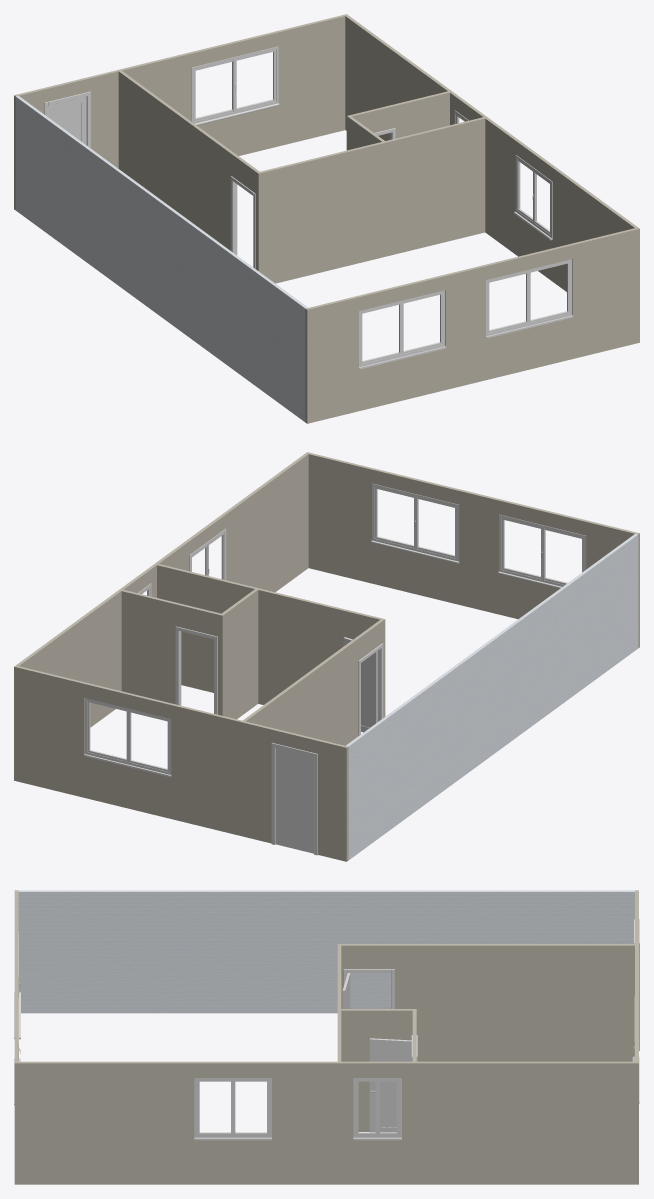
Rendered from Structure.dae.
3 renders of one model, top to bottom at view 1: azimuth 30°, elevation 25°; view 2: azimuth 150°, elevation 25°; view 3: azimuth 270°, elevation 25°, orthographic. The views are drawn at different scales.
Visible parts, largest first — view 1: Cube, 8.0.249.002, Door.001, DoorFrame; view 2: Cube, 8.0.249.002, Door.001, Door, DoorFrame.001, DoorFrame.002, DoorFrame; view 3: Cube, 8.0.249.002, Door.002.
Boxes of the visible parts, bbox=[...] form: Cube: bbox=[14, 14, 639, 423]; 8.0.249.002: bbox=[191, 46, 573, 369]; Door.001: bbox=[48, 96, 86, 144]; DoorFrame: bbox=[230, 176, 255, 268]; Cube: bbox=[14, 452, 639, 861]; 8.0.249.002: bbox=[84, 483, 586, 777]; Door.001: bbox=[275, 748, 313, 853]; Door: bbox=[343, 637, 377, 732]; DoorFrame.001: bbox=[271, 743, 317, 855]; DoorFrame.002: bbox=[175, 626, 217, 714]; DoorFrame: bbox=[358, 643, 383, 735]; Cube: bbox=[14, 890, 638, 1184]; 8.0.249.002: bbox=[14, 932, 639, 1140]; Door.002: bbox=[369, 1038, 411, 1132].
Bounding box in the file's own units: 8.41 × 12.86 × 2.76.
4 materials, 2 textured.
